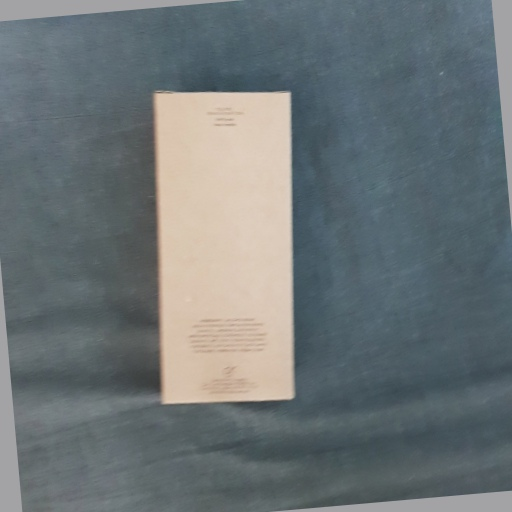Paper_0: (150, 85, 304, 418)
